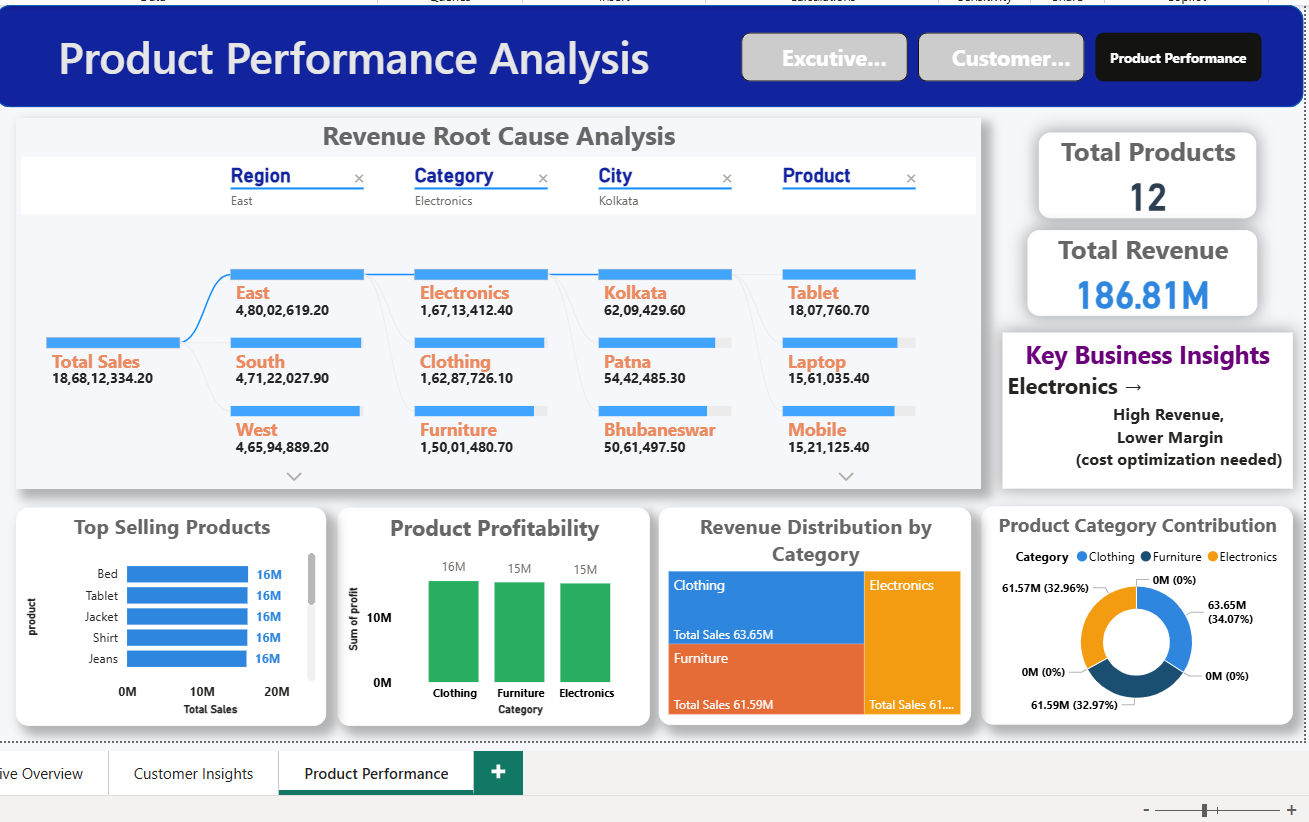

What the dashboard file says about the page in this screenshot:
{"tool":"powerbi","page":{"name":"Product Performance","canvas":[1280,720],"ordinal":2},"visuals":[{"type":"columnChart","title":"Product Profitability","fields":{"Y":["Sum(public retail.profit)"],"Category":["public retail.category"]},"box":[335.1,491.6,305.7,214],"z":0},{"type":"donutChart","title":"Product Category Contribution","fields":{"Y":["public retail.Category Contribution %","public retail.Total Sales"],"Category":["public retail.category"]},"box":[964.8,490.4,304.5,214],"z":1000},{"type":"decompositionTreeVisual","title":"Revenue Root Cause Analysis","fields":{"Analyze":["public retail.Total Sales"],"ExplainBy":["public retail.region","public retail.category","public retail.city","public retail.product"]},"box":[20.8,110.1,944,363.2],"z":2000},{"type":"treemap","title":"Revenue Distribution by Category","fields":{"Values":["public retail.Total Sales","public retail.Category Contribution %"],"Group":["public retail.category"]},"box":[649.3,491.6,305.7,212.8],"z":3000},{"type":"barChart","title":"Top Selling Products","fields":{"Y":["public retail.Total Sales"],"Category":["public retail.product"]},"box":[20.8,491.6,303.3,214],"z":4000},{"type":"shape","box":[0,0,1280.3,100.3],"z":5000},{"type":"card","title":"Total Products","fields":{"Values":["public retail.Total Products"]},"box":[1021.1,124.7,212.8,84.4],"z":6000},{"type":"card","title":"Total Revenue","fields":{"Values":["public retail.Total Product Sales"]},"box":[1010.1,220.1,225,84.4],"z":7000},{"type":"textbox","box":[4.9,15.9,692.1,69.7],"z":9000},{"type":"pageNavigator","box":[730,26.9,511.1,48.9],"z":10000},{"type":"textbox","box":[985.6,320.4,283.7,152.9],"z":11000}]}

Visuals, with their boxes on the page's 1280x720 design canvas (x1, y1, x2, y2). These are canvas units, not pixel positions in the 1309x822 screenshot, which may show the page scaled, cropped or inside an application window:
"Product Profitability" columnChart: x1=335, y1=492, x2=641, y2=706
"Product Category Contribution" donutChart: x1=965, y1=490, x2=1269, y2=704
"Revenue Root Cause Analysis" decompositionTreeVisual: x1=21, y1=110, x2=965, y2=473
"Revenue Distribution by Category" treemap: x1=649, y1=492, x2=955, y2=704
"Top Selling Products" barChart: x1=21, y1=492, x2=324, y2=706
shape: x1=0, y1=0, x2=1280, y2=100
"Total Products" card: x1=1021, y1=125, x2=1234, y2=209
"Total Revenue" card: x1=1010, y1=220, x2=1235, y2=304
textbox: x1=5, y1=16, x2=697, y2=86
pageNavigator: x1=730, y1=27, x2=1241, y2=76
textbox: x1=986, y1=320, x2=1269, y2=473
